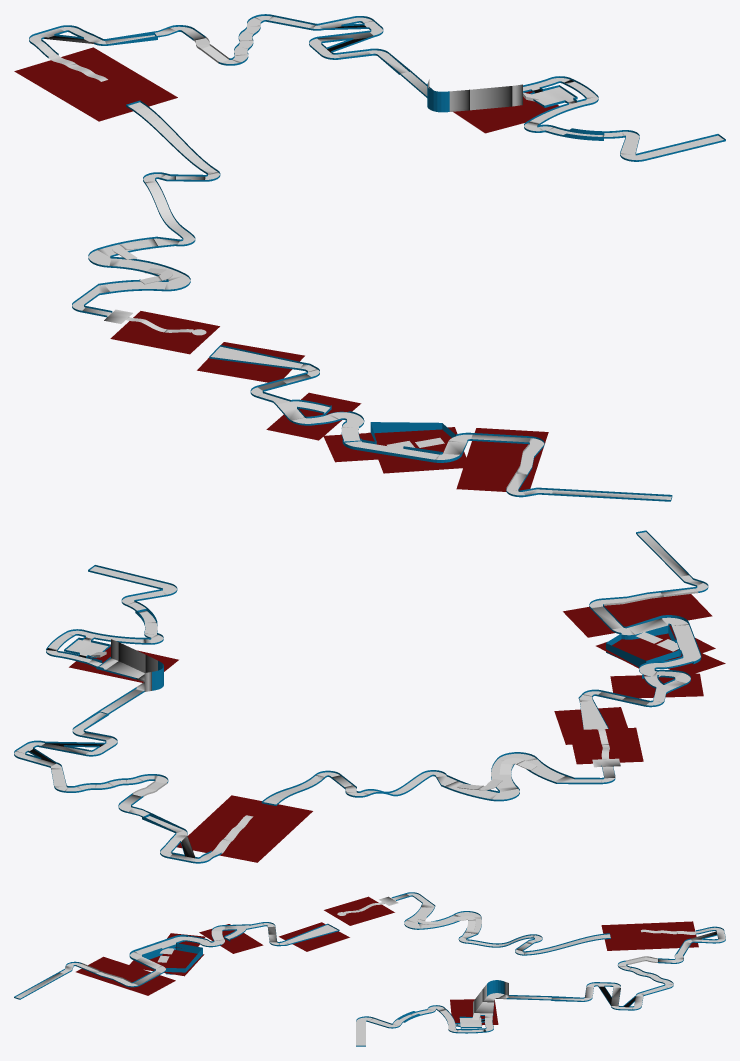
File: Qinghuaci_Pick.FBX
The picture shows the model from 3 angles, top to bottom: view 1: azimuth 30°, elevation 25°; view 2: azimuth 150°, elevation 25°; view 3: azimuth 270°, elevation 25°; orthographic projection. The views are drawn at different scales.
Parts seen in each view (by area): view 1: Pick_Track, Pick_Wall; view 2: Pick_Track, Pick_Wall; view 3: Pick_Track, Pick_Wall.
Part boxes in pixels (x1,y1,x2,y2): Pick_Track: (14,16,723,499); Pick_Wall: (29,14,725,501); Pick_Track: (14,532,725,862); Pick_Wall: (14,530,708,863); Pick_Track: (15,893,725,1045); Pick_Wall: (14,892,725,1046).
Size of what is drawn, in the model's own units: 1438 by 240 by 2319.
